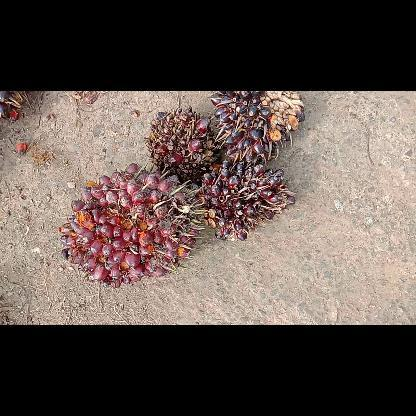TBS abnormal: (200, 156, 294, 242), (210, 91, 306, 157), (149, 111, 219, 173)
TBS masak: (58, 164, 200, 288)
